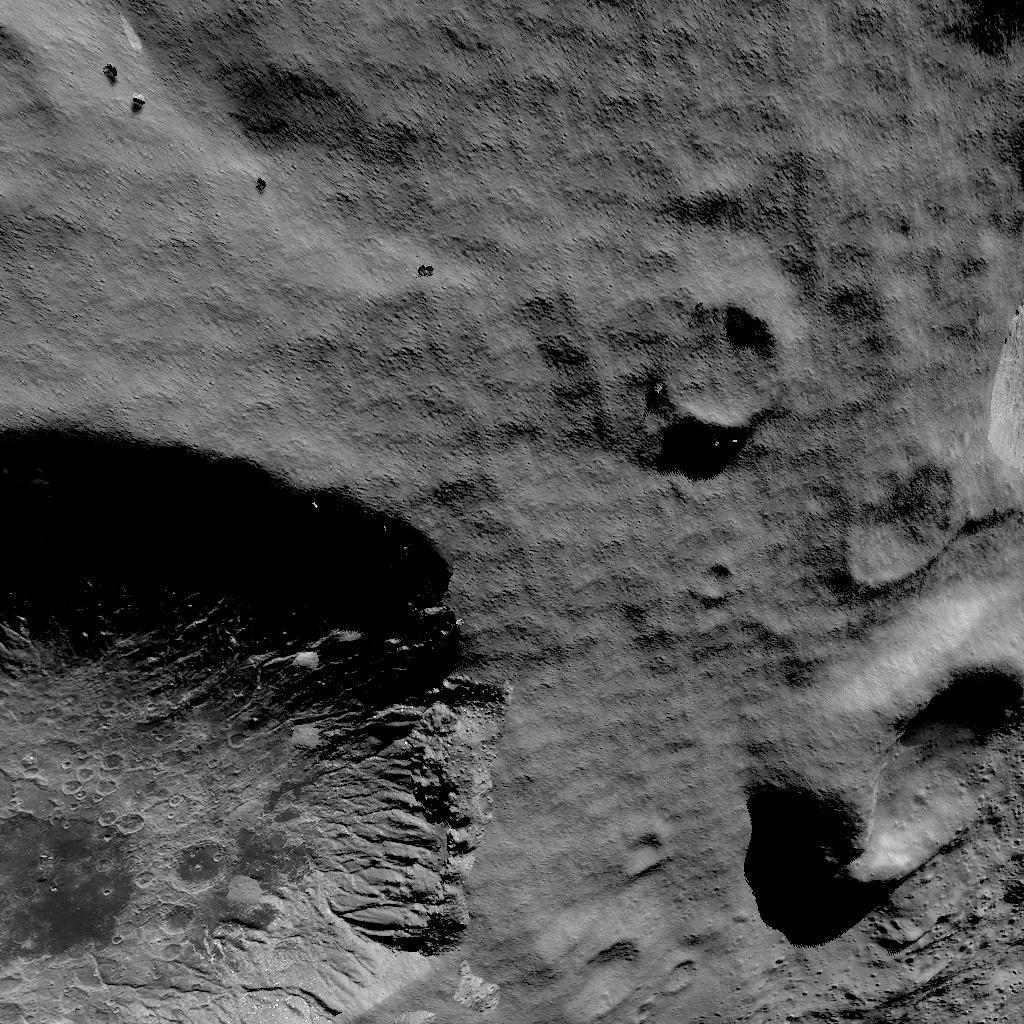Crater: (0, 414, 490, 1024), (733, 620, 1024, 960), (649, 306, 788, 456), (819, 472, 967, 600), (559, 940, 656, 1024)
Plan surface: (276, 0, 954, 182), (0, 216, 416, 401)
